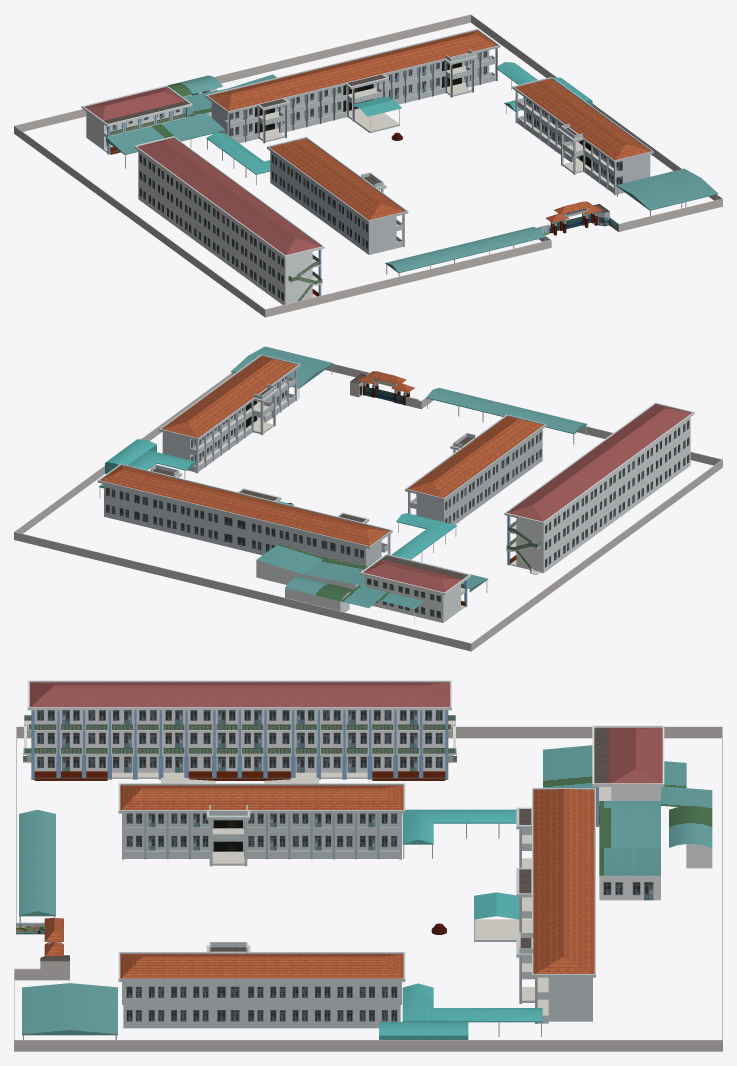
File: Truong Tieu Hoc Tien Thanh.glb
The picture shows the model from 3 angles, top to bottom: view 1: azimuth 30°, elevation 25°; view 2: azimuth 150°, elevation 25°; view 3: azimuth 270°, elevation 25°; orthographic projection. The views are drawn at different scales.
Parts seen in each view (by area): view 1: BPH084_2_3_4, BPH084_1, BPH084_5, BPH084_2_3_4.001, BPH084_2_3_4.002, BPH084_5.001; view 2: BPH084_5, BPH084_2_3_4, BPH084_1, BPH084_5.001, BPH084_2_3_4.002, BPH084_2_3_4.001; view 3: BPH084_5, BPH084_2_3_4.002, BPH084_2_3_4.001, BPH084_1, BPH084_2_3_4, BPH084_5.001.
Boxes of the visible parts, bbox=[...] form: BPH084_2_3_4: bbox=[205, 29, 500, 143]; BPH084_1: bbox=[14, 14, 722, 317]; BPH084_5: bbox=[134, 136, 324, 304]; BPH084_2_3_4.001: bbox=[206, 132, 408, 254]; BPH084_2_3_4.002: bbox=[497, 62, 653, 195]; BPH084_5.001: bbox=[81, 74, 276, 168]; BPH084_5: bbox=[504, 402, 694, 574]; BPH084_2_3_4: bbox=[97, 463, 392, 566]; BPH084_1: bbox=[14, 346, 722, 651]; BPH084_5.001: bbox=[256, 544, 488, 624]; BPH084_2_3_4.002: bbox=[99, 354, 300, 497]; BPH084_2_3_4.001: bbox=[391, 414, 546, 561]; BPH084_5: bbox=[23, 680, 456, 783]; BPH084_2_3_4.002: bbox=[118, 942, 542, 1039]; BPH084_2_3_4.001: bbox=[118, 783, 516, 866]; BPH084_1: bbox=[14, 726, 722, 1051]; BPH084_2_3_4: bbox=[474, 788, 595, 1023]; BPH084_5.001: bbox=[543, 725, 712, 900].
Size of the model in its own units: 119 by 14.65 by 114.
3 materials, 3 textured.
